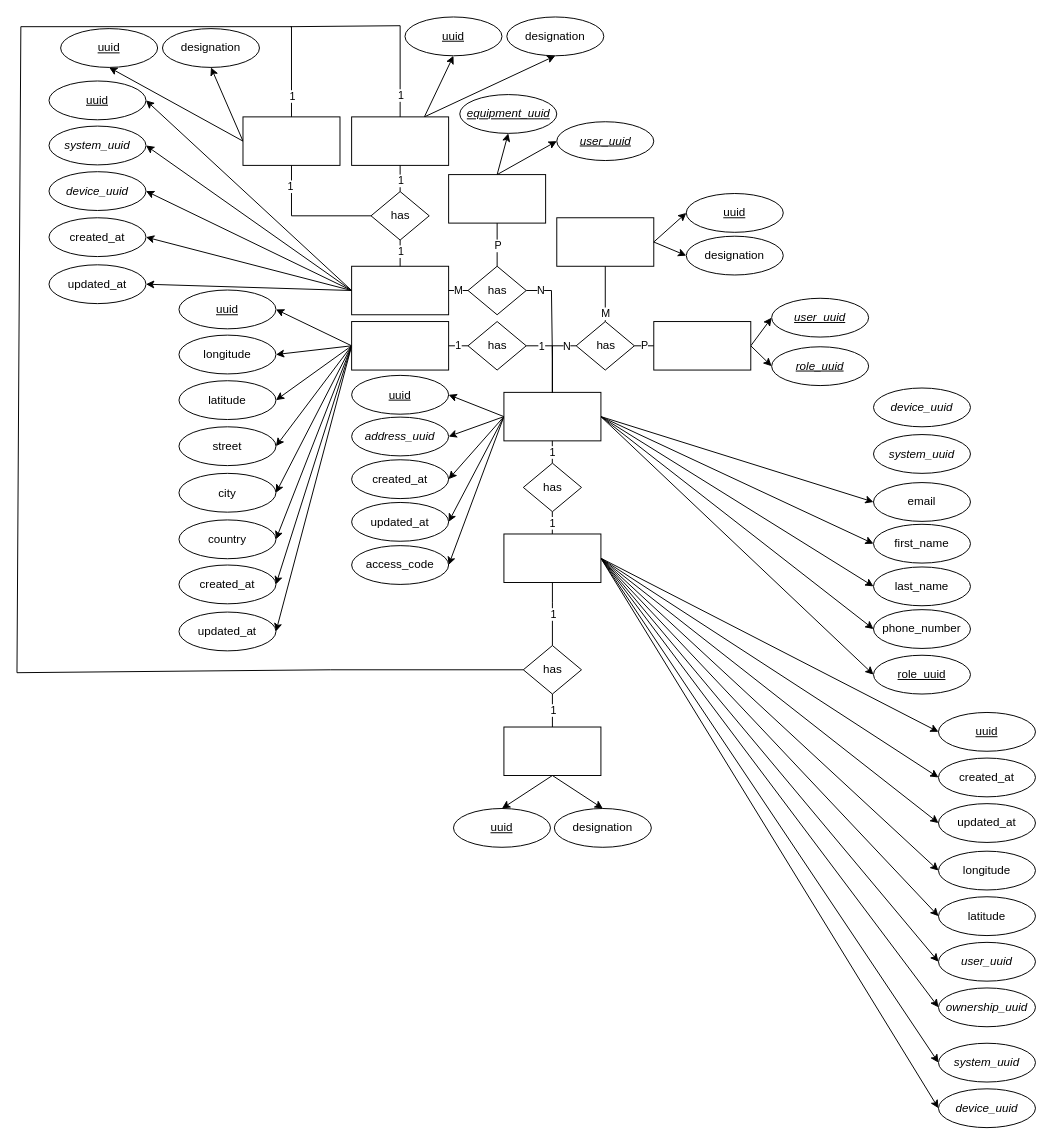
Image size: 1052x1145. Some labels were removed from this diagram. The shapes that lost their labels are listed below. From the top down, each one's box as (x1, y1, x2, y2) in pixels, then its label:
(242, 116, 340, 165): Device
(351, 116, 449, 165): System
(448, 174, 546, 223): UserEquipment
(556, 217, 654, 266): Role
(351, 265, 449, 315): Equipment
(351, 321, 449, 370): Address
(653, 321, 751, 370): UserRole
(503, 391, 601, 441): User
(503, 533, 601, 582): Connection
(503, 726, 601, 776): Ownership
